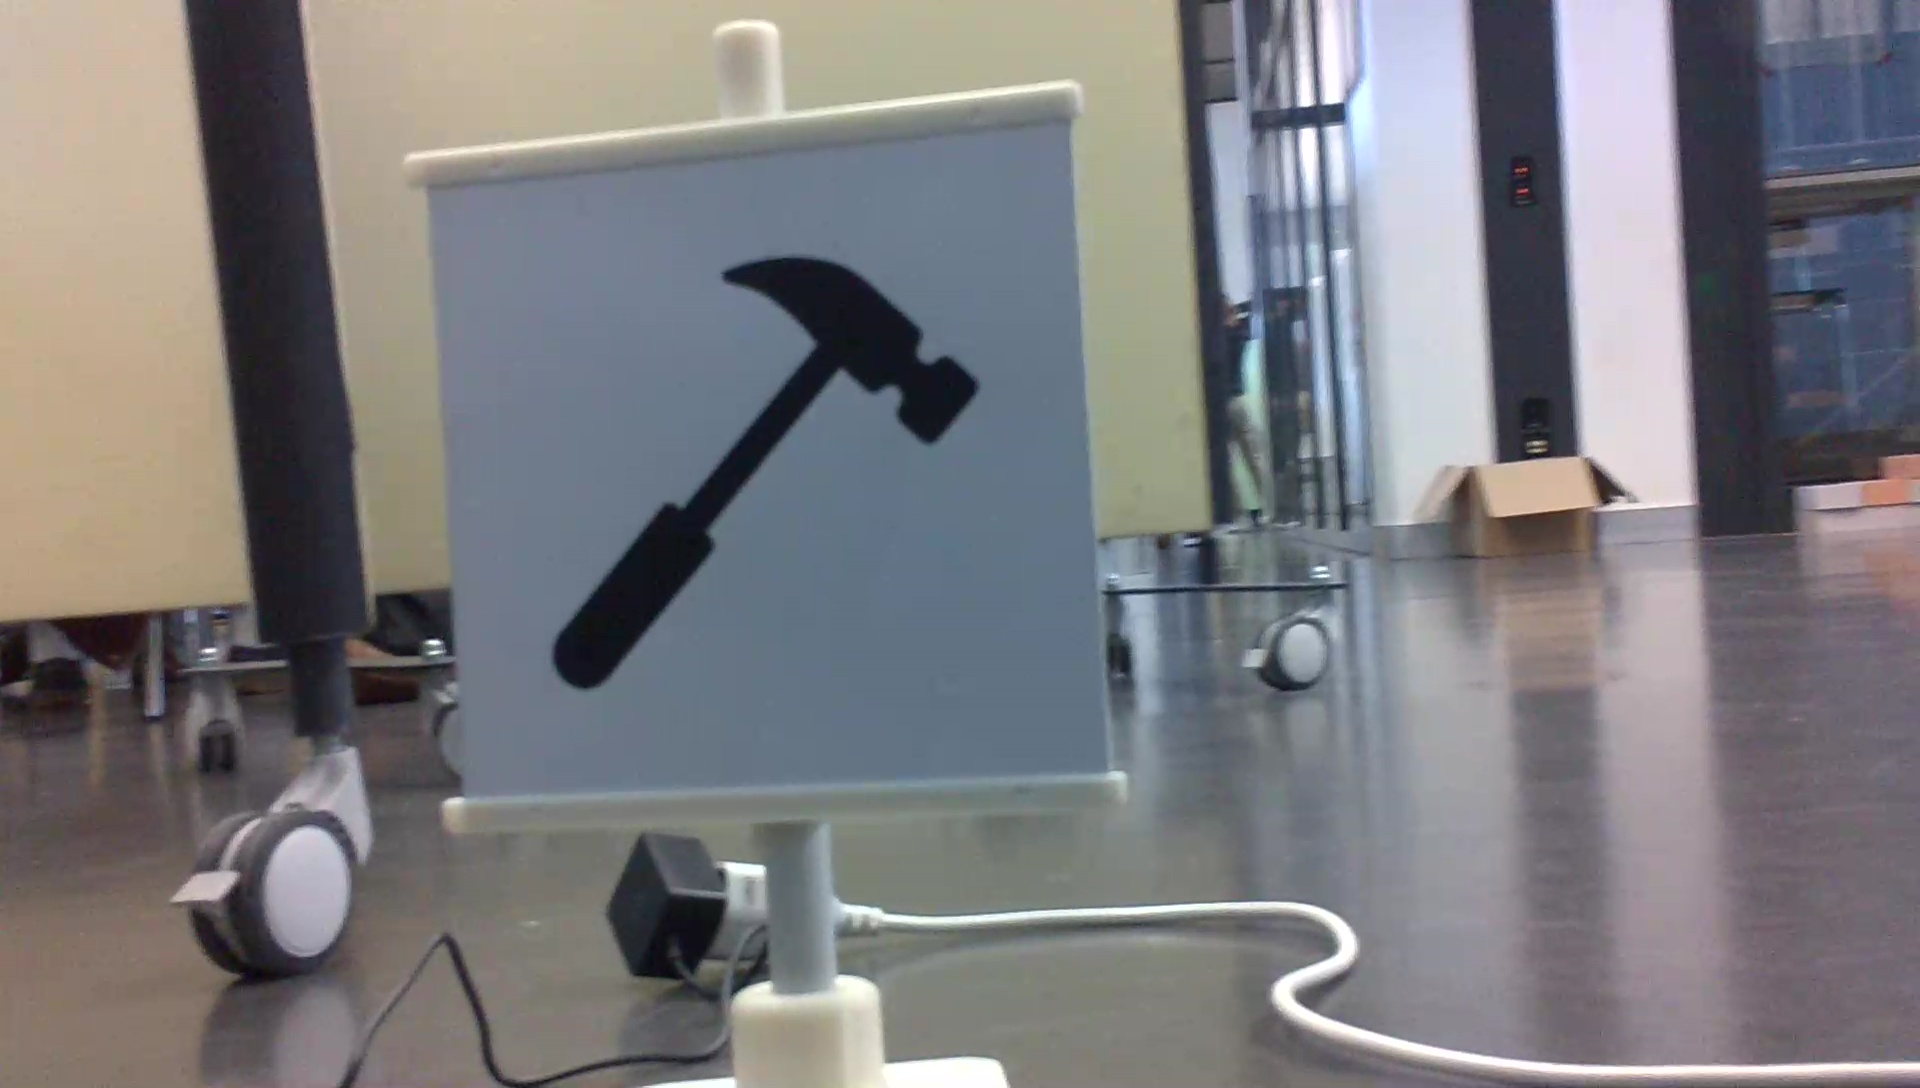hammer: (535, 248, 994, 702)
